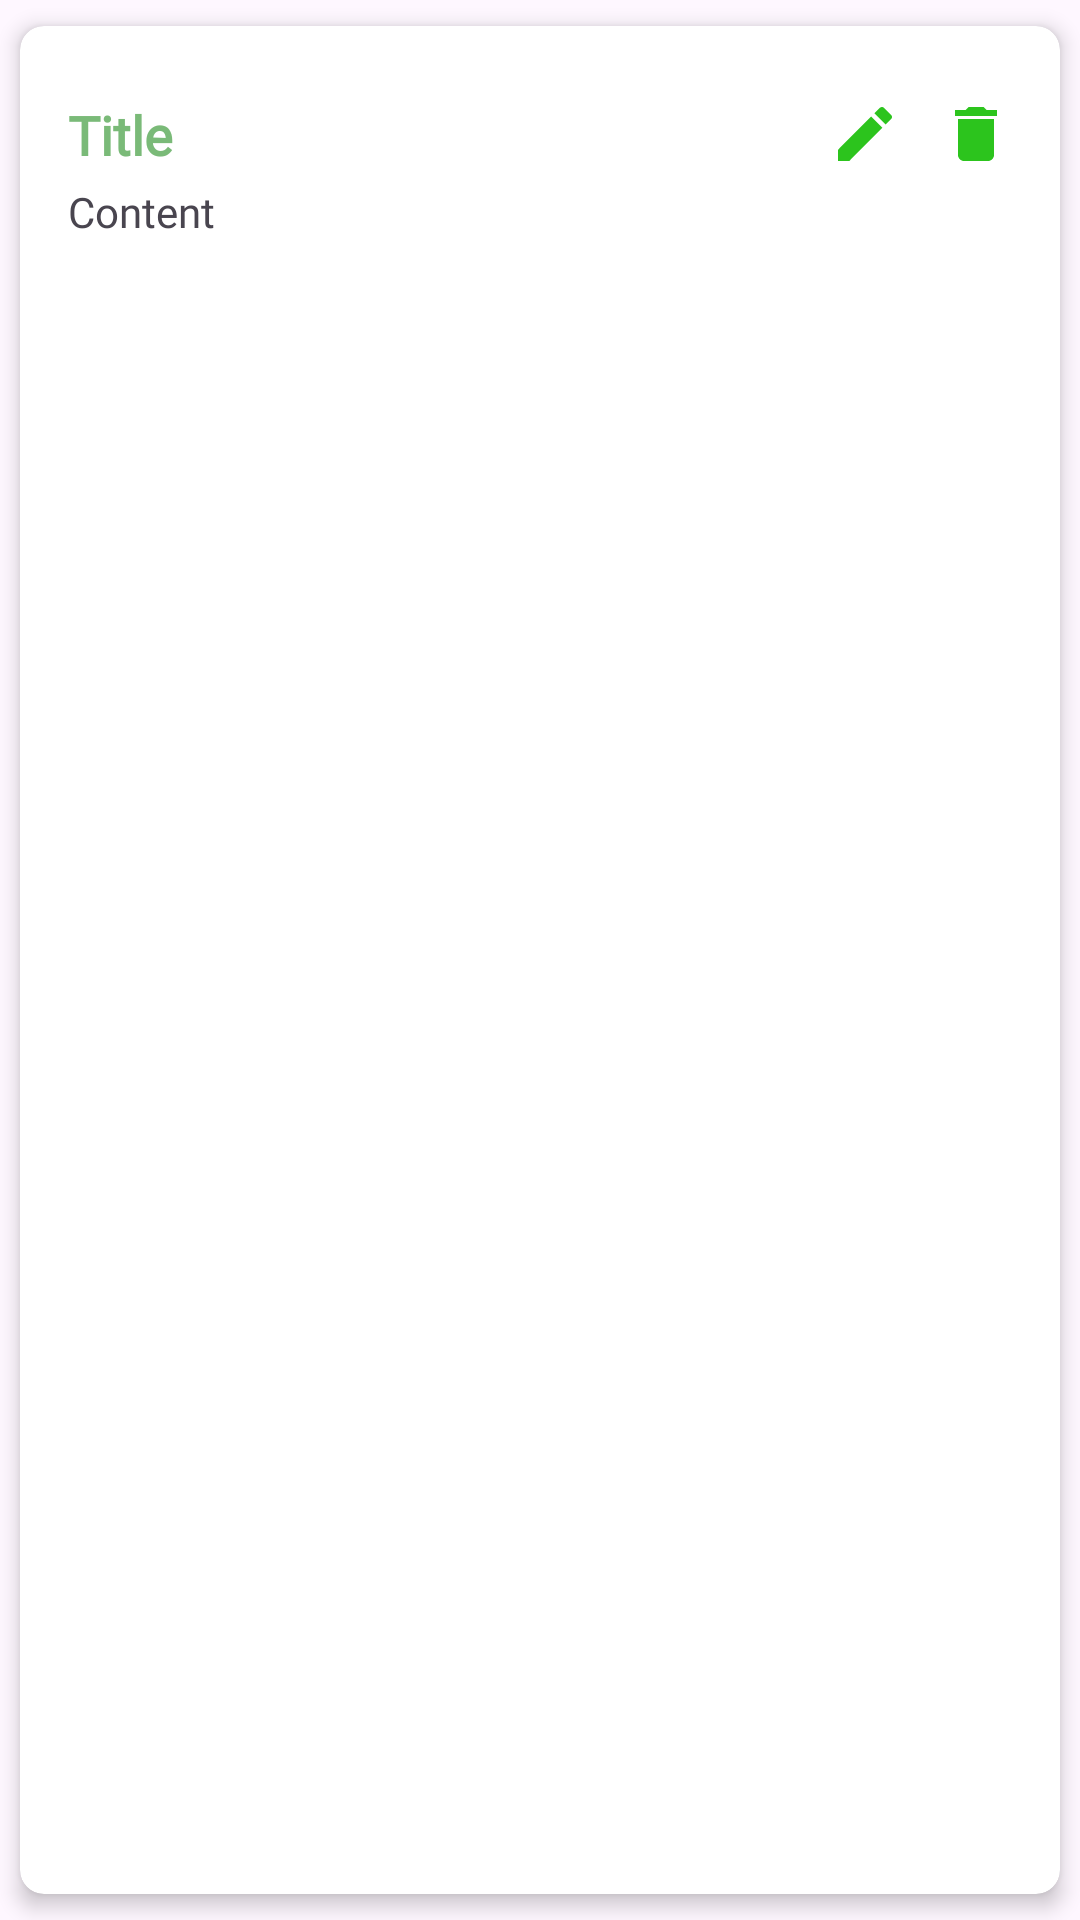

Locate icon controls on the screen. Image size 1080*1920, boxes as (x1, y1, x2, y2).
delete: (955, 107, 997, 161)
edit: (838, 107, 892, 161)
